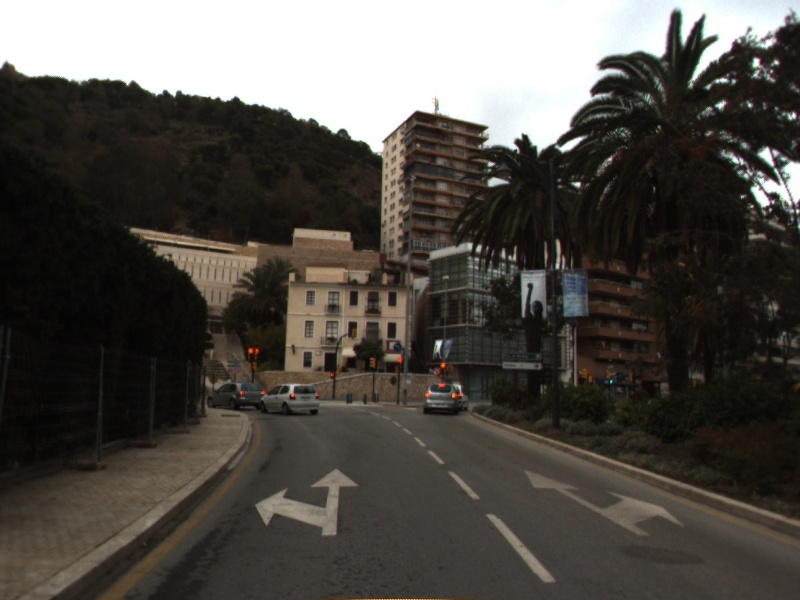STRAIGHT_LEFT: (253, 467, 360, 537)
STRAIGHT_RIGHT: (523, 468, 686, 537)
